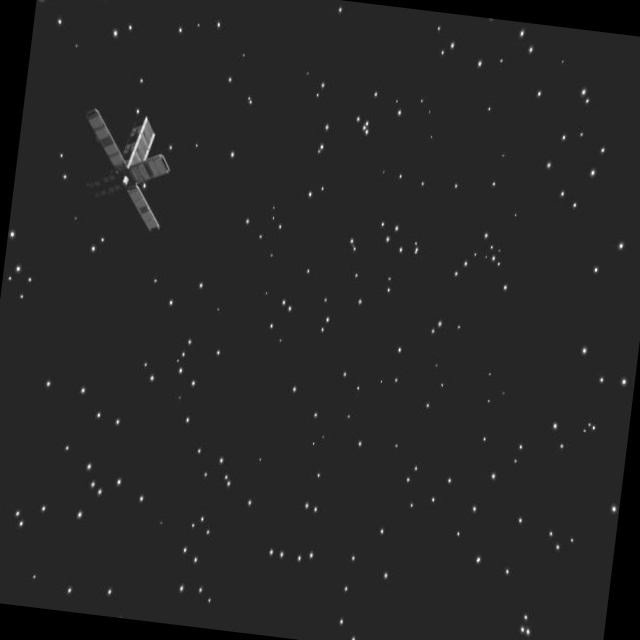satellite: (68, 88, 187, 236)
